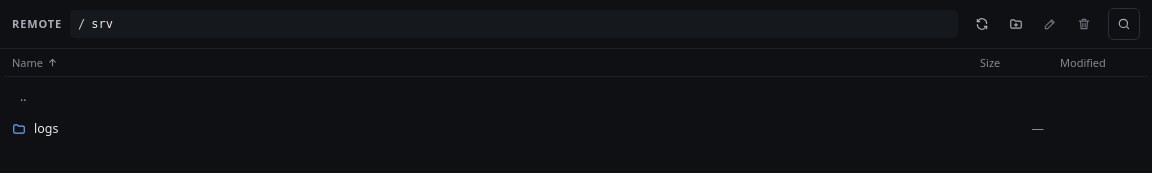
Test case: FilePane search › shows the server error when the search is rejected
Expected: the text "logs" is shown, x1=12 y1=120 x2=58 y2=137
Click the button named "Search files" at (1124, 24), box x1=1108 y1=8 x2=1140 y2=40
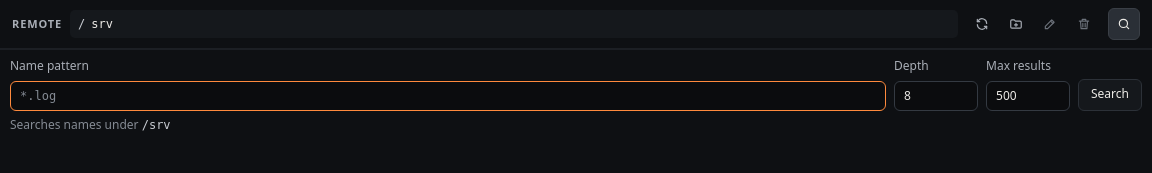
Type "x" into the field labelled "Name pattern" at (448, 96), box x1=10 y1=81 x2=886 y2=111
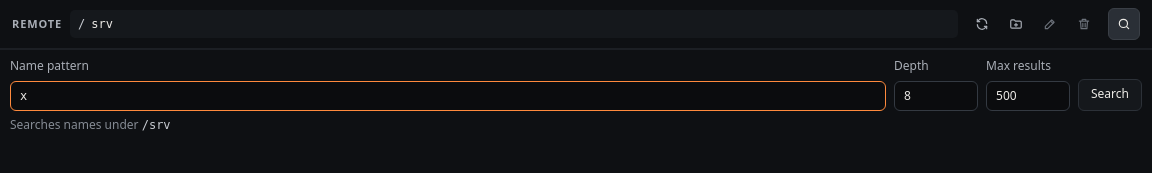
Click the button "Search" at (1110, 95), box x1=1078 y1=79 x2=1142 y2=111
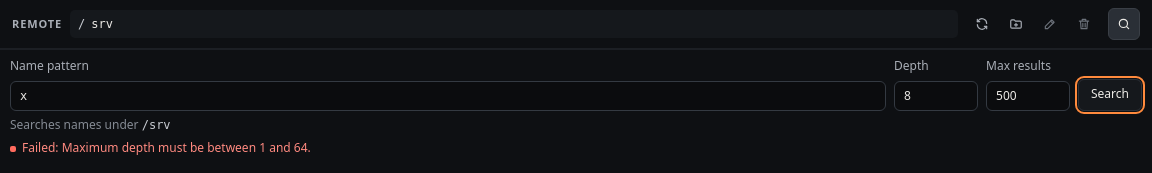
Result: the message reads "Failed: Maximum depth must be between 1 and 64." at x1=10 y1=139 x2=311 y2=156
